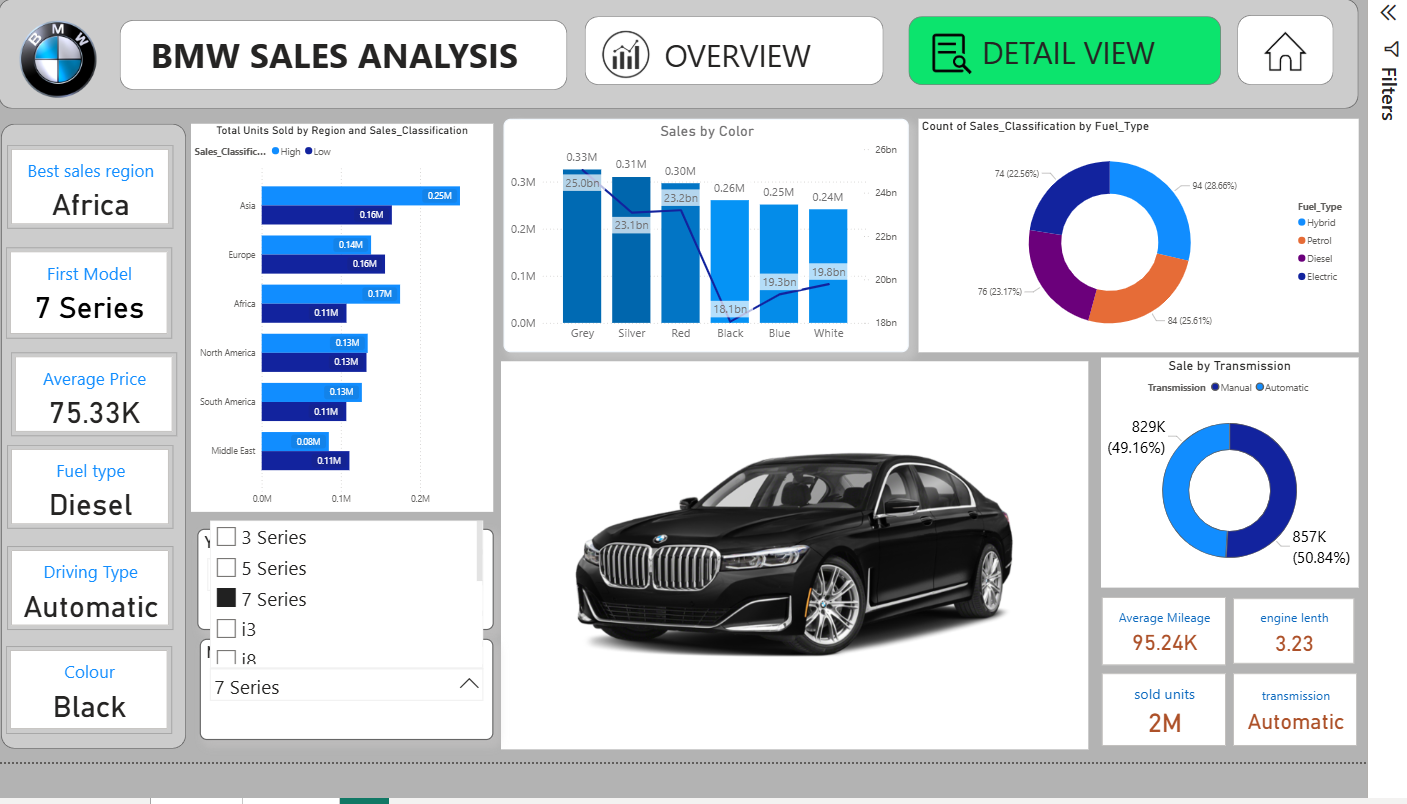

What the dashboard file says about the page in this screenshot:
{"tool":"powerbi","page":{"name":"Page 2","canvas":[1923,1080],"ordinal":1},"visuals":[{"type":"shape","box":[14,186.9,258.5,873.5],"z":0},{"type":"shape","box":[10.5,12.2,1900.6,153.7],"z":1000},{"type":"cardVisual","fields":{"Data":["Min(BMW_Car_Sales_Classification.Region)"]},"box":[22.7,216.6,232.3,117],"z":2000},{"type":"image","box":[10.5,28,166,138],"z":3000},{"type":"shape","box":[179.9,41.9,625.4,97.8],"z":4000},{"type":"textbox","box":[218.4,52.4,546.8,75.1],"z":5000},{"type":"shape","box":[829.8,36.7,417.5,96.1],"z":6000},{"type":"shape","box":[1282.2,36.7,436.7,96.1],"z":7000},{"type":"image","box":[814.1,19.2,146.7,141.5],"z":8000},{"type":"textbox","box":[936.3,55.9,228.8,71.6],"z":9000},{"type":"image","box":[1263,19.2,153.7,138],"z":10000},{"type":"textbox","box":[1380.1,52.4,267.3,76.9],"z":11000},{"type":"shape","box":[1741.7,34.9,134.5,97.8],"z":12000},{"type":"image","box":[1741.7,38.4,134.5,94.3],"z":13000},{"type":"cardVisual","fields":{"Data":["BMW_Car_Sales_Classification.Average Price"]},"box":[28,506.6,232.3,117],"z":14000},{"type":"cardVisual","fields":{"Data":["Min(BMW_Car_Sales_Classification.Model)"]},"box":[21,359.9,232.3,127.5],"z":15000},{"type":"cardVisual","fields":{"Data":["Min(BMW_Car_Sales_Classification.Transmission)"]},"box":[22.7,777.4,232.3,117],"z":16000},{"type":"cardVisual","fields":{"Data":["Min(BMW_Car_Sales_Classification.Color)"]},"box":[21,917.1,232.3,122.3],"z":17000},{"type":"cardVisual","fields":{"Data":["Min(BMW_Car_Sales_Classification.Fuel_Type)"]},"box":[22.7,635.9,232.3,117],"z":18000},{"type":"clusteredBarChart","fields":{"Category":["BMW_Car_Sales_Classification.Region"],"Y":["BMW_Car_Sales_Classification.Total Units Sold"],"Series":["BMW_Car_Sales_Classification.Sales_Classification"]},"box":[280.4,187.6,422.6,542.2],"z":19000},{"type":"lineStackedColumnComboChart","title":"Sales by Color","fields":{"Category":["BMW_Car_Sales_Classification.Color"],"Y":["Sum(BMW_Car_Sales_Classification.Sales_Volume)"],"Y2":["BMW_Car_Sales_Classification.Total Revenue"]},"box":[716.2,179.9,566,326.7],"z":20000},{"type":"donutChart","fields":{"Category":["BMW_Car_Sales_Classification.Fuel_Type"],"Y":["CountNonNull(BMW_Car_Sales_Classification.Sales_Classification)"]},"box":[1296.2,179.9,614.9,326.7],"z":21000},{"type":"slicer","title":"Year","fields":{"Values":["BMW_Car_Sales_Classification.Year"]},"box":[288.2,752.9,414,141.5],"z":22000},{"type":"imageDB603108E3FF4EBFB8047F5653368E8C","fields":{"imageUrl":["Sheet1.Column2"],"imageTitle":["BMW_Car_Sales_Classification.Model"]},"box":[713.3,519.5,820.5,542.2],"z":23000},{"type":"slicer","title":"Model","fields":{"Values":["BMW_Car_Sales_Classification.Model"]},"box":[291.7,906.6,410.5,141.5],"z":24000},{"type":"donutChart","title":"Sale by Transmission","fields":{"Category":["BMW_Car_Sales_Classification.Transmission"],"Y":["Sum(BMW_Car_Sales_Classification.Sales_Volume)"]},"box":[1551.3,513.6,359.9,321.4],"z":25000},{"type":"cardVisual","fields":{"Data":["BMW_Car_Sales_Classification.Average Mileage"]},"box":[1548.2,843.2,183.5,105.1],"z":26000},{"type":"cardVisual","fields":{"Data":["Sum(BMW_Car_Sales_Classification.Sales_Volume)"]},"box":[1548.2,950.4,183.5,111.3],"z":27000},{"type":"cardVisual","fields":{"Data":["Avg(BMW_Car_Sales_Classification.Engine_Size_L)"]},"box":[1731.7,845.2,179.4,101],"z":28000},{"type":"cardVisual","fields":{"Data":["Min(BMW_Car_Sales_Classification.Transmission)"]},"box":[1731.7,950.4,183.5,111.3],"z":29000}]}

Visuals, with their boxes in screenshot pixels (x1, y1, x2, y2), scaled from the page's 1923x1080 canvas onto the 1407x804 screenshot:
shape: {"left": 10, "top": 139, "right": 199, "bottom": 789}
shape: {"left": 8, "top": 9, "right": 1398, "bottom": 124}
cardVisual - Min(BMW_Car_Sales_Classification.Region): {"left": 17, "top": 161, "right": 187, "bottom": 248}
image: {"left": 8, "top": 21, "right": 129, "bottom": 124}
shape: {"left": 132, "top": 31, "right": 589, "bottom": 104}
textbox: {"left": 160, "top": 39, "right": 560, "bottom": 95}
shape: {"left": 607, "top": 27, "right": 913, "bottom": 99}
shape: {"left": 938, "top": 27, "right": 1258, "bottom": 99}
image: {"left": 596, "top": 14, "right": 703, "bottom": 120}
textbox: {"left": 685, "top": 42, "right": 852, "bottom": 95}
image: {"left": 924, "top": 14, "right": 1037, "bottom": 117}
textbox: {"left": 1010, "top": 39, "right": 1205, "bottom": 96}
shape: {"left": 1274, "top": 26, "right": 1373, "bottom": 99}
image: {"left": 1274, "top": 29, "right": 1373, "bottom": 99}
cardVisual - BMW_Car_Sales_Classification.Average Price: {"left": 20, "top": 377, "right": 190, "bottom": 464}
cardVisual - Min(BMW_Car_Sales_Classification.Model): {"left": 15, "top": 268, "right": 185, "bottom": 363}
cardVisual - Min(BMW_Car_Sales_Classification.Transmission): {"left": 17, "top": 579, "right": 187, "bottom": 666}
cardVisual - Min(BMW_Car_Sales_Classification.Color): {"left": 15, "top": 683, "right": 185, "bottom": 774}
cardVisual - Min(BMW_Car_Sales_Classification.Fuel_Type): {"left": 17, "top": 473, "right": 187, "bottom": 560}
clusteredBarChart - BMW_Car_Sales_Classification.Region x BMW_Car_Sales_Classification.Total Units Sold: {"left": 205, "top": 140, "right": 514, "bottom": 543}
"Sales by Color" lineStackedColumnComboChart: {"left": 524, "top": 134, "right": 938, "bottom": 377}
donutChart - BMW_Car_Sales_Classification.Fuel_Type x CountNonNull(BMW_Car_Sales_Classification.Sales_Classification): {"left": 948, "top": 134, "right": 1398, "bottom": 377}
"Year" slicer: {"left": 211, "top": 560, "right": 514, "bottom": 666}
imageDB603108E3FF4EBFB8047F5653368E8C - Sheet1.Column2 x BMW_Car_Sales_Classification.Model: {"left": 522, "top": 387, "right": 1122, "bottom": 790}
"Model" slicer: {"left": 213, "top": 675, "right": 514, "bottom": 780}
"Sale by Transmission" donutChart: {"left": 1135, "top": 382, "right": 1398, "bottom": 622}
cardVisual - BMW_Car_Sales_Classification.Average Mileage: {"left": 1133, "top": 628, "right": 1267, "bottom": 706}
cardVisual - Sum(BMW_Car_Sales_Classification.Sales_Volume): {"left": 1133, "top": 708, "right": 1267, "bottom": 790}
cardVisual - Avg(BMW_Car_Sales_Classification.Engine_Size_L): {"left": 1267, "top": 629, "right": 1398, "bottom": 704}
cardVisual - Min(BMW_Car_Sales_Classification.Transmission): {"left": 1267, "top": 708, "right": 1401, "bottom": 790}
